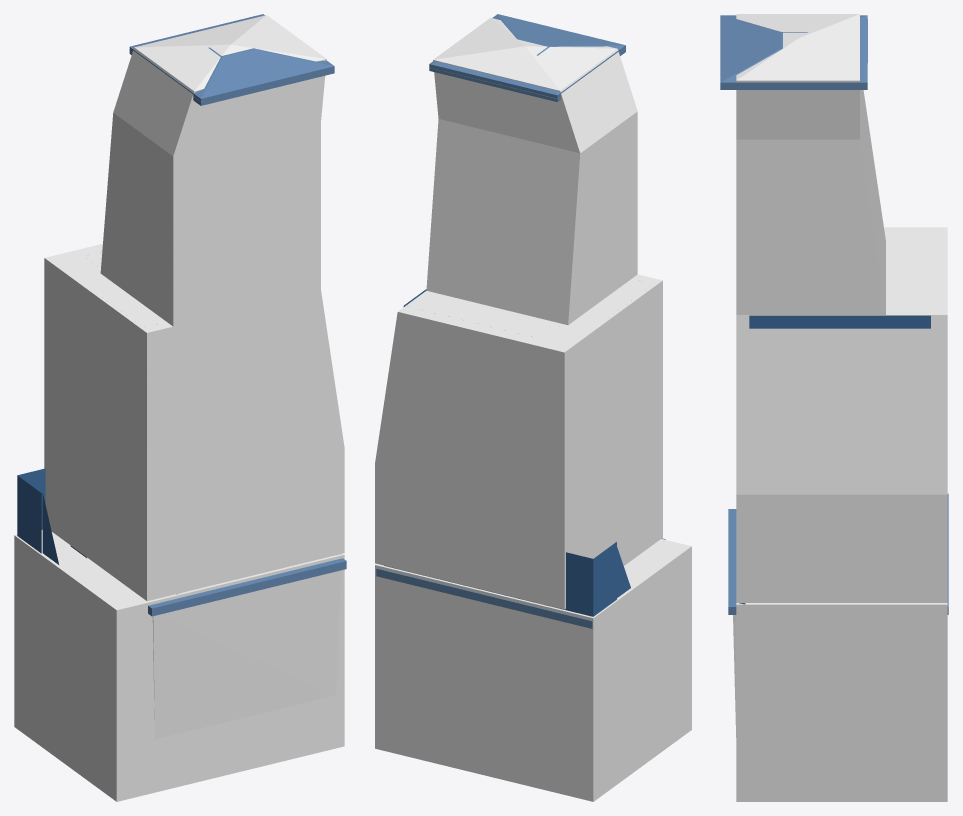
The model's file is marshaltower.dae.
The picture shows the model from 3 angles, left to right: view 1: azimuth 30°, elevation 25°; view 2: azimuth 150°, elevation 25°; view 3: azimuth 270°, elevation 25°; orthographic projection. The views are drawn at different scales.
Parts seen in each view (by area): view 1: Colmesh-1, marshaltower_a075, marshaltower_a250; view 2: Colmesh-1, marshaltower_a250, marshaltower_a075; view 3: Colmesh-1, marshaltower_a250, marshaltower_a075.
Boxes of the visible parts, box(x1,y1,x2,y2) form: Colmesh-1: box(14, 15, 344, 801); marshaltower_a075: box(17, 50, 340, 739); marshaltower_a250: box(17, 14, 346, 784); Colmesh-1: box(375, 17, 691, 801); marshaltower_a250: box(376, 14, 665, 628); marshaltower_a075: box(386, 48, 625, 621); Colmesh-1: box(736, 14, 947, 801); marshaltower_a250: box(720, 15, 948, 614); marshaltower_a075: box(733, 19, 930, 737).
Size of the model in its own units: 4.49 by 3.78 by 13.18.
